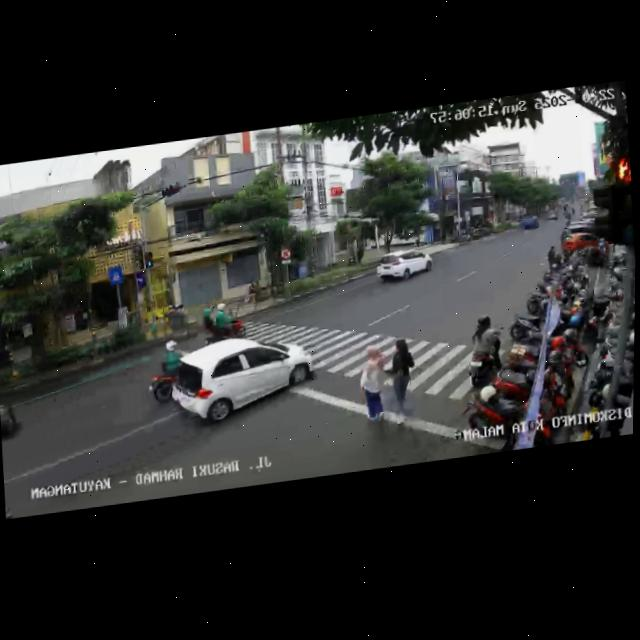car: (166, 322, 314, 432), (374, 244, 433, 286), (559, 216, 602, 257), (0, 388, 27, 444), (519, 212, 540, 231)
motorcycle: (147, 335, 205, 417), (464, 313, 504, 387), (198, 298, 244, 344), (544, 239, 565, 275)
person: (381, 332, 420, 428), (357, 345, 395, 434)
